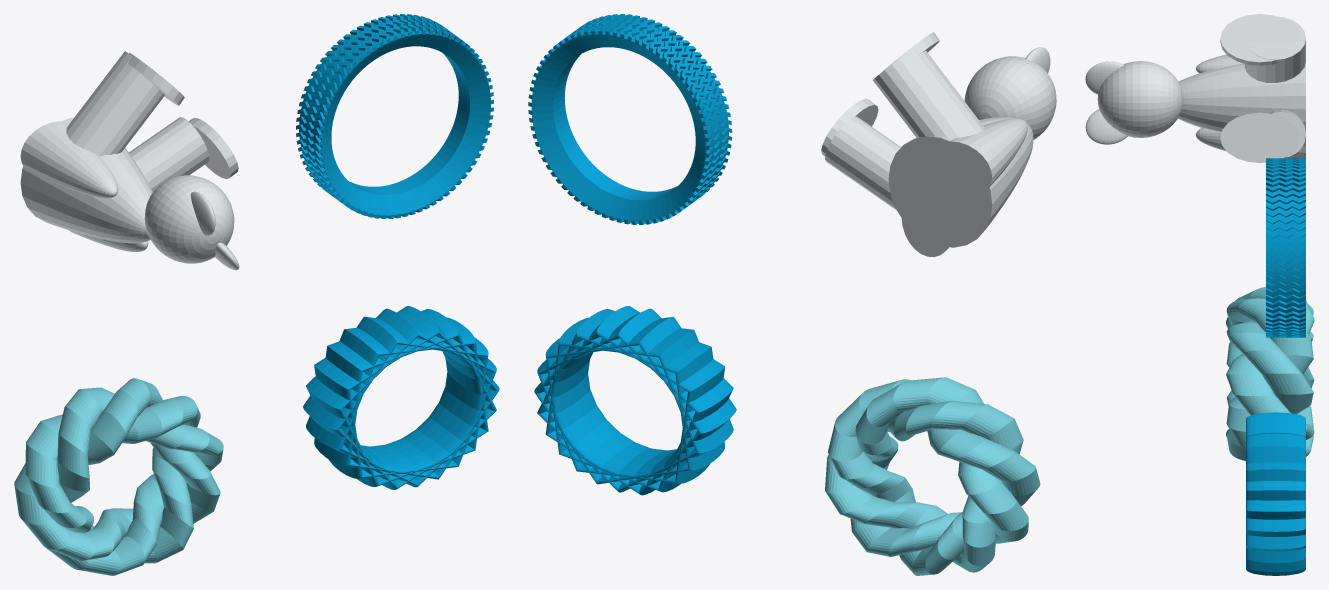
Rendered from tinker.obj.
The picture shows the model from 3 angles, left to right: view 1: azimuth 30°, elevation 25°; view 2: azimuth 150°, elevation 25°; view 3: azimuth 270°, elevation 25°; orthographic projection. The views are drawn at different scales.
Parts seen in each view (by area): view 1: group_0_40919, group_0_14541540, group_0_7720667; view 2: group_0_40919, group_0_14541540, group_0_7720667; view 3: group_0_14541540, group_0_40919, group_0_7720667.
Boxes of the visible parts, <box> form: group_0_40919: <box>296,14,499,489</box>; group_0_14541540: <box>20,51,239,270</box>; group_0_7720667: <box>14,378,223,575</box>; group_0_40919: <box>528,14,736,495</box>; group_0_14541540: <box>821,32,1056,256</box>; group_0_7720667: <box>825,377,1040,575</box>; group_0_14541540: <box>1085,14,1305,162</box>; group_0_40919: <box>1246,158,1305,575</box>; group_0_7720667: <box>1226,287,1314,461</box>.
Bounding box in the file's own units: 75.34 × 78.33 × 36.26.
